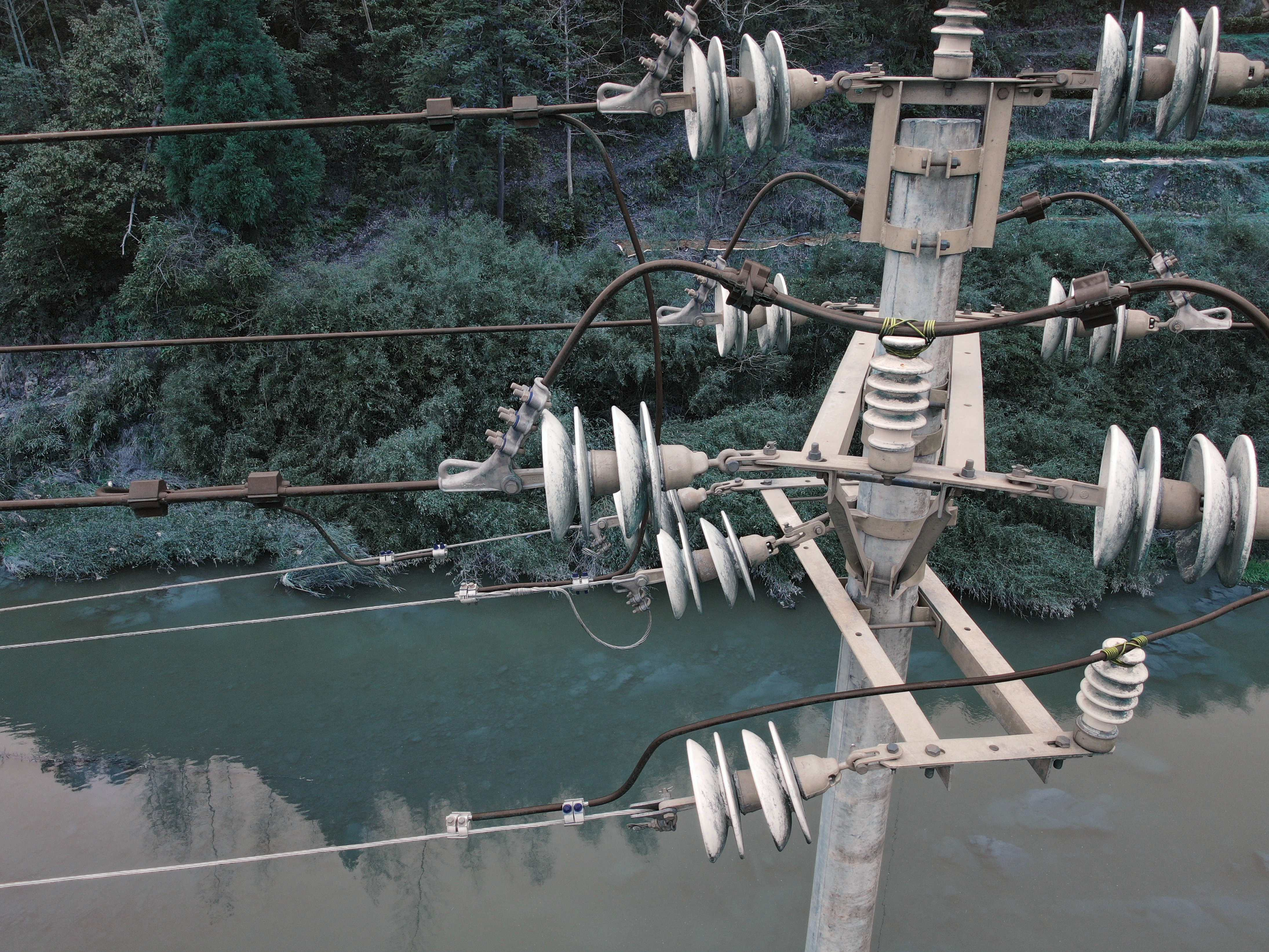severe_soiling_no_discharge_whole: (1075, 416, 1263, 592), (1085, 4, 1266, 147), (535, 392, 705, 543), (683, 718, 839, 867), (676, 30, 827, 159), (656, 514, 778, 616), (1042, 275, 1161, 369), (711, 267, 813, 361), (863, 333, 934, 468), (1071, 636, 1148, 755), (610, 481, 711, 559), (926, 3, 990, 78)
